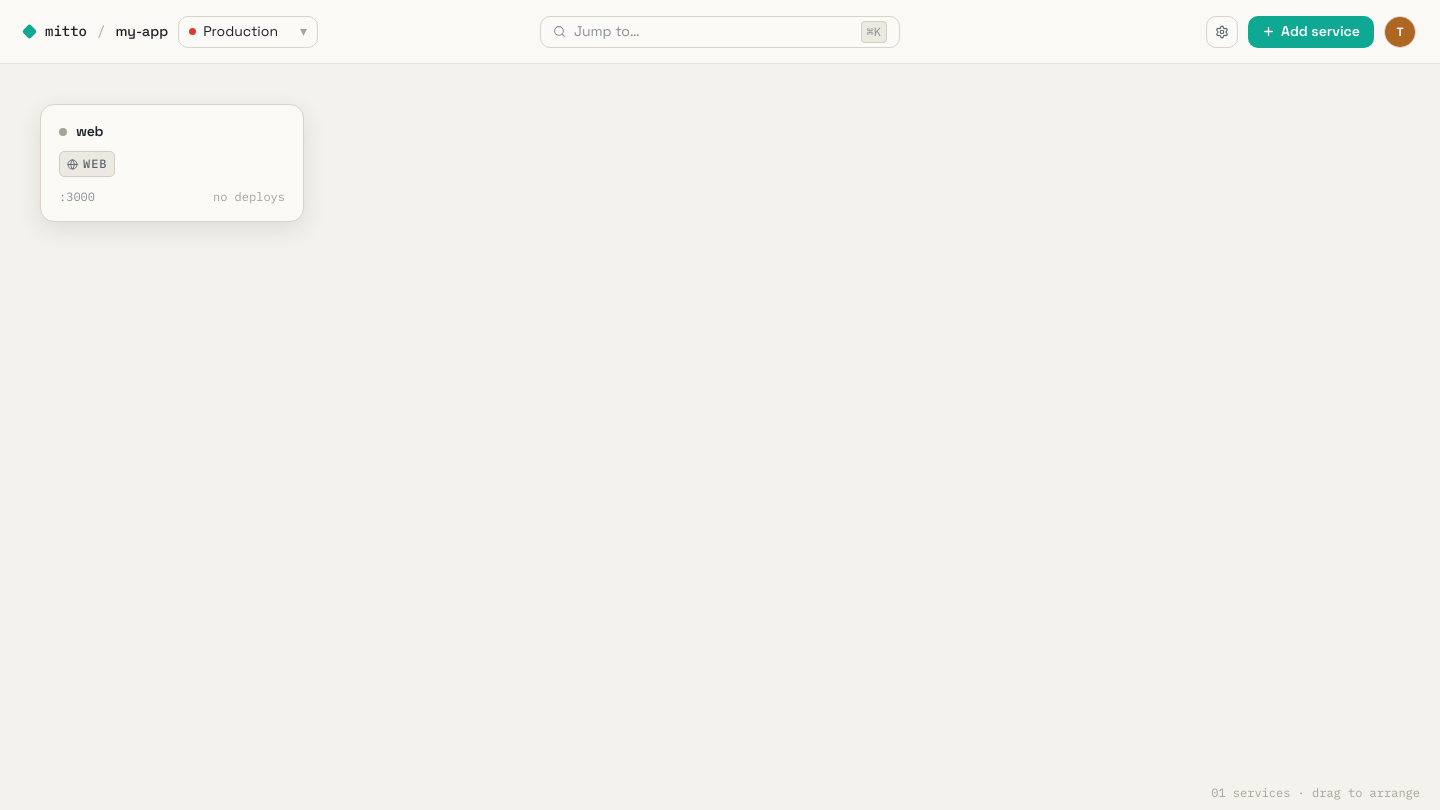
Test: ProjectPage (canvas) › opens the add-service chooser, picks manual configuration, and creates a service
Expected: the button "my-app" is shown, top-left (115, 21), bottom-right (168, 42)
Click the button "Add service" at {"x": 1311, "y": 32}, box top-left (1248, 16), bottom-right (1374, 48)
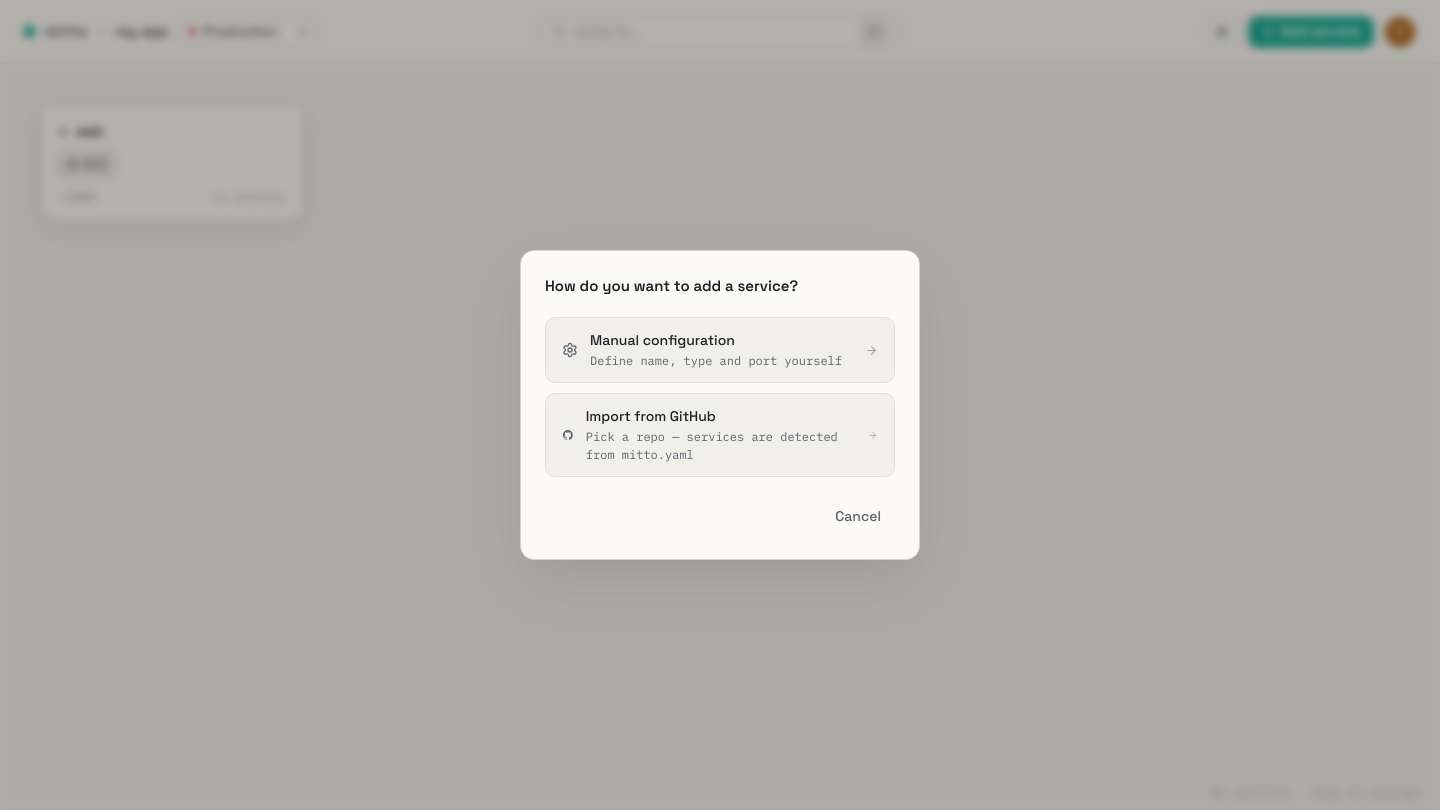
Click the text "Manual configuration" at {"x": 662, "y": 340}, box top-left (590, 331), bottom-right (735, 349)
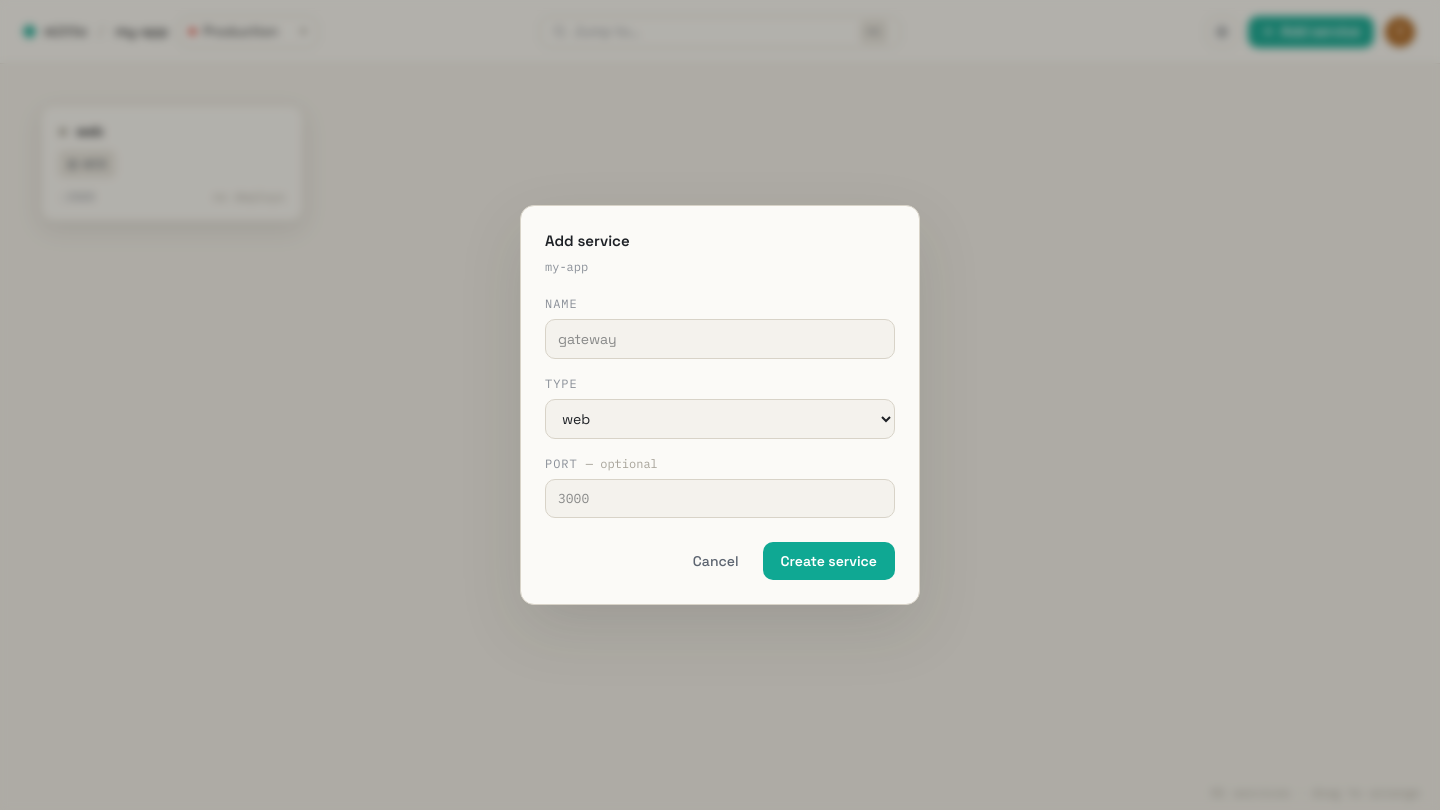
Type "worker" into the field labelled "Name" at {"x": 720, "y": 338}, box top-left (545, 318), bottom-right (895, 358)
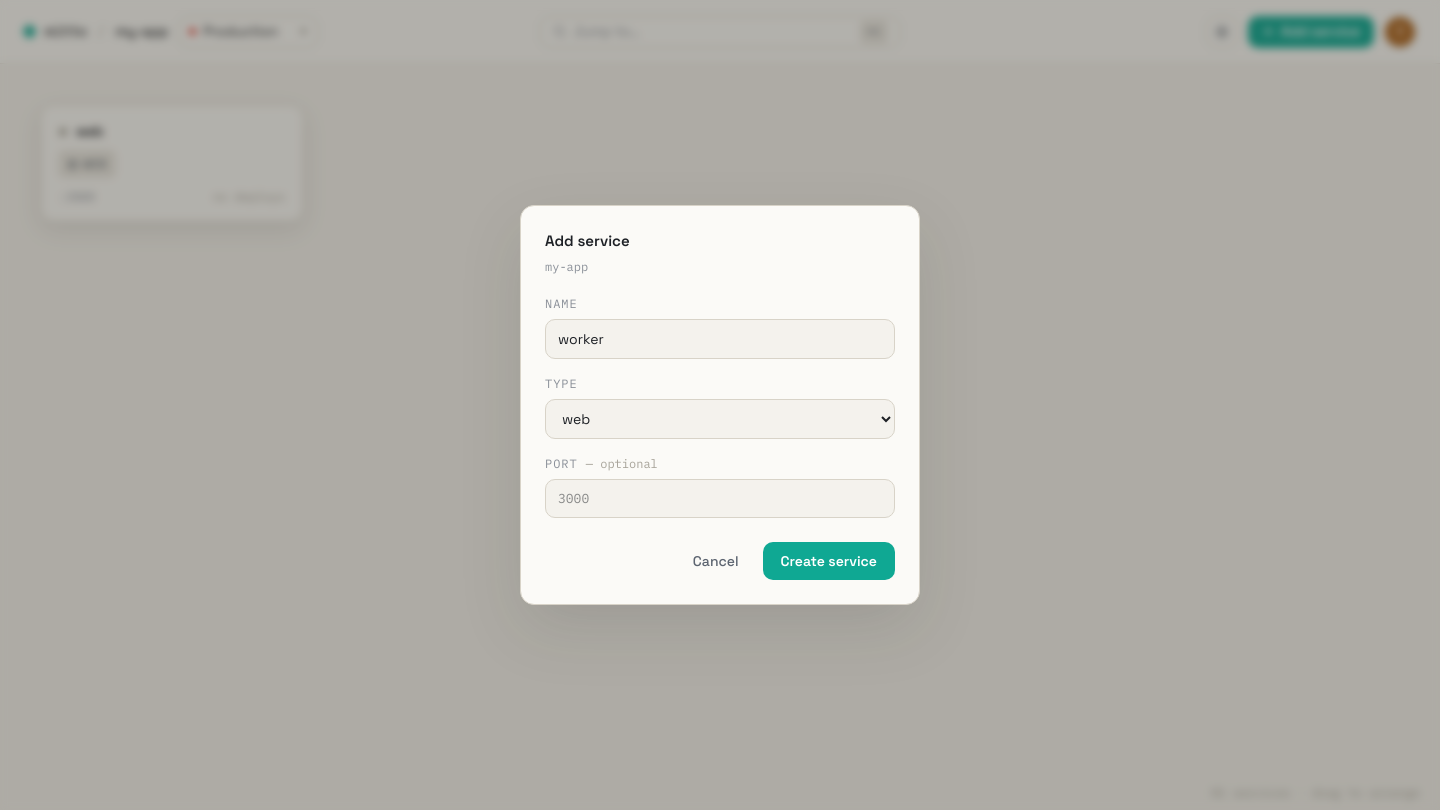
Select "worker" in the dropdown labelled "Type" at {"x": 720, "y": 418}, box top-left (545, 398), bottom-right (895, 438)
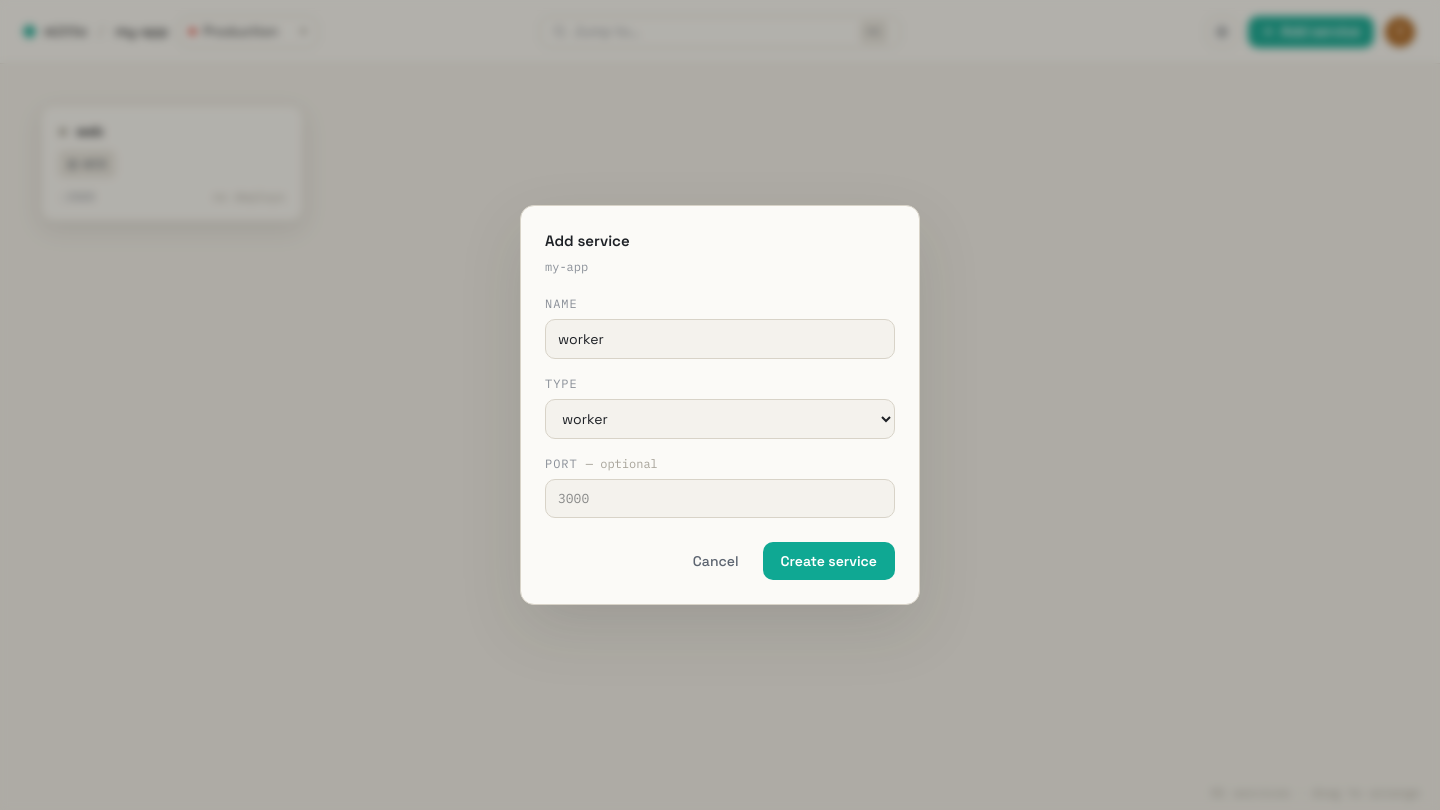
Click the button "Create service" at {"x": 829, "y": 561}, box top-left (763, 542), bottom-right (895, 580)
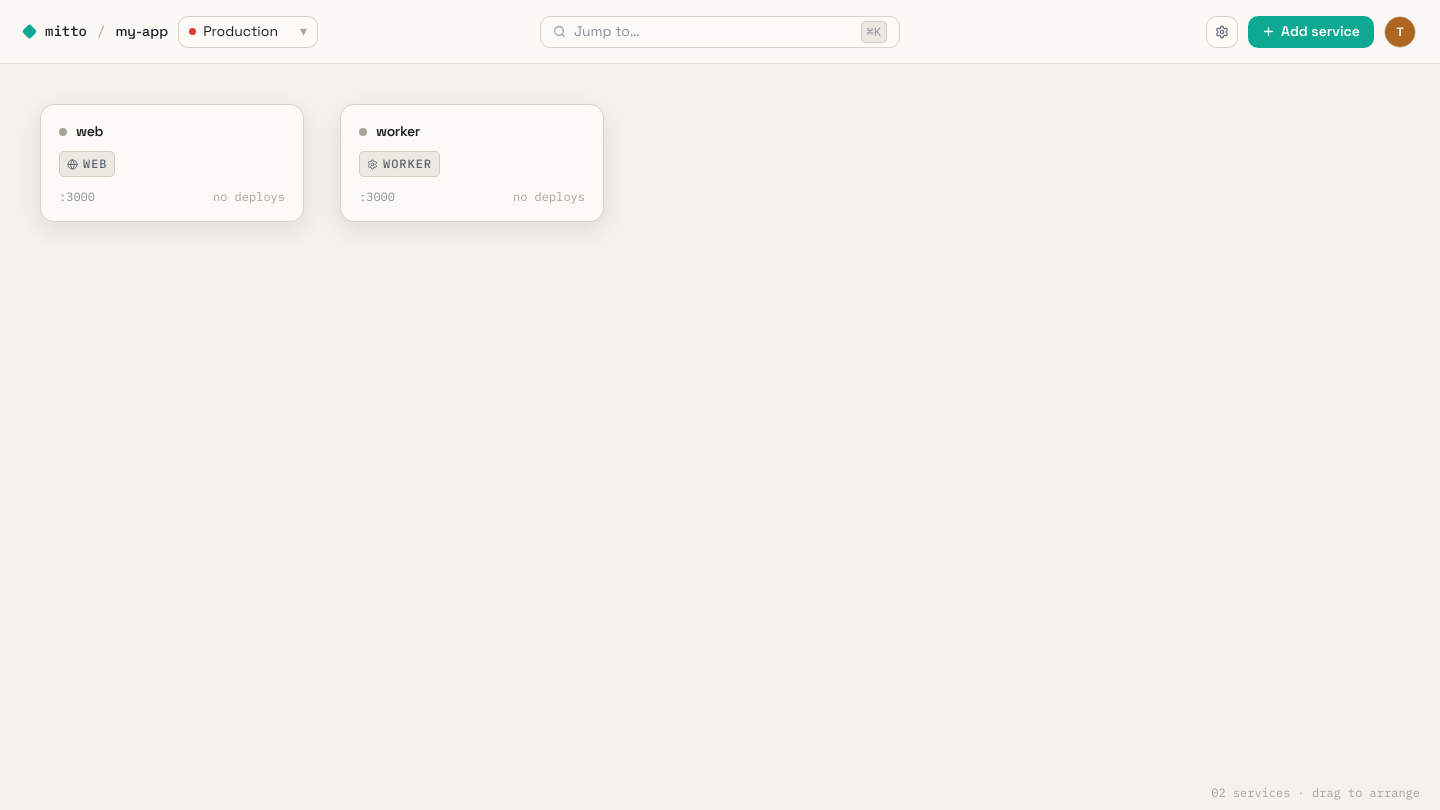
Now the button with test id "service-card-svc-2" is shown, box top-left (340, 104), bottom-right (604, 222)
